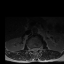CCS_normal: (34, 45, 36, 53)
LFS_normal: (38, 45, 40, 52)
LLS_normal: (36, 45, 38, 52)
RFS_normal: (30, 46, 32, 53)
RLS_normal: (32, 45, 34, 53)
